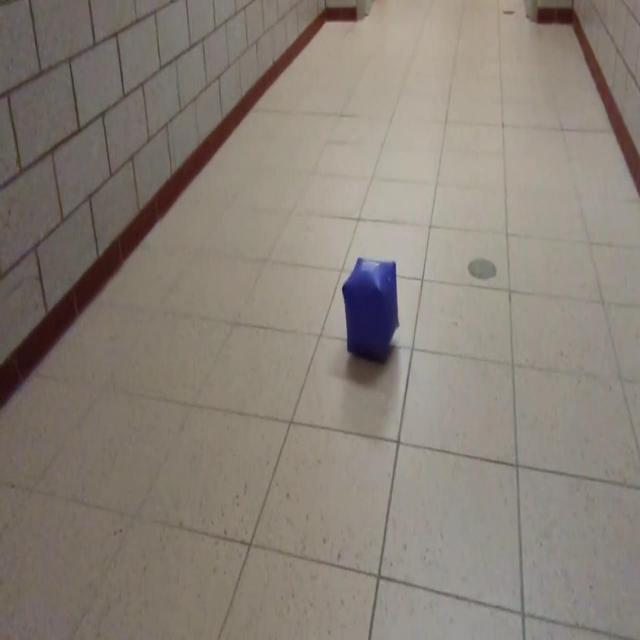frc_cube: (342, 252, 400, 366)
